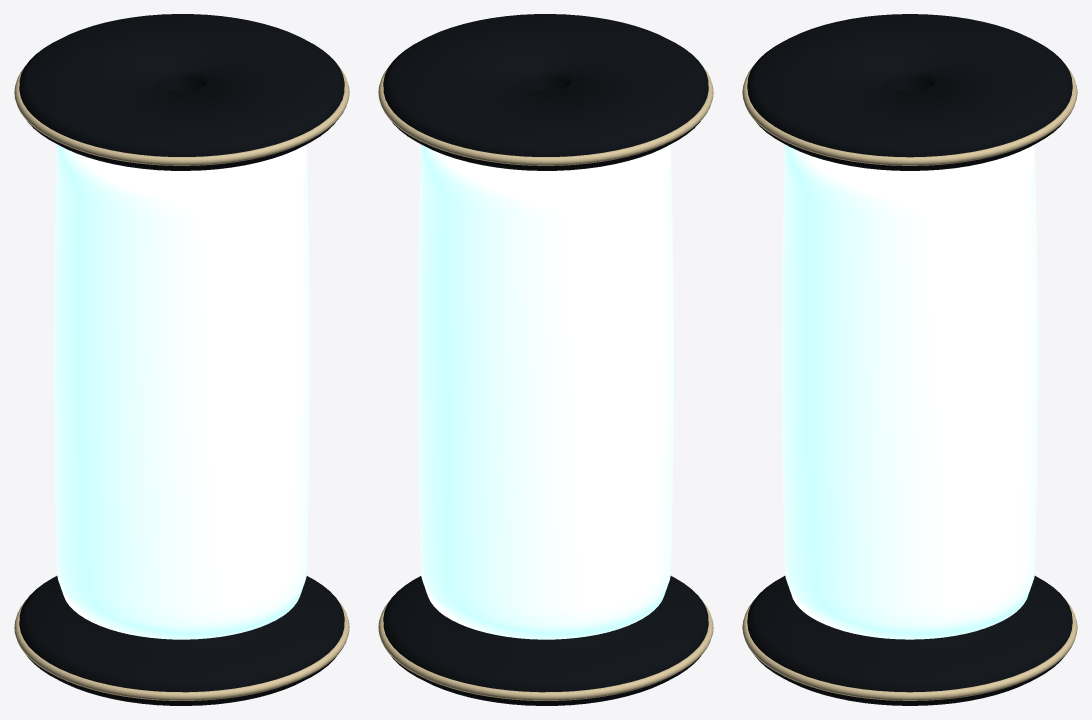
Rendered from spool.glb.
3 views of the same model, side by side, from view 1: azimuth 30°, elevation 25°; view 2: azimuth 150°, elevation 25°; view 3: azimuth 270°, elevation 25° (orthographic).
Parts seen in each view (by area): view 1: Spool_Thread, Spool_Frame, Spool_Rim.001, Spool_Rim; view 2: Spool_Thread, Spool_Frame, Spool_Rim.001, Spool_Rim; view 3: Spool_Thread, Spool_Frame, Spool_Rim, Spool_Rim.001.
Boxes of the visible parts, x1=… form: Spool_Thread: x1=54, y1=144, x2=309, y2=639; Spool_Frame: x1=19, y1=14, x2=344, y2=705; Spool_Rim.001: x1=14, y1=65, x2=349, y2=165; Spool_Rim: x1=14, y1=600, x2=349, y2=700; Spool_Thread: x1=418, y1=144, x2=673, y2=639; Spool_Frame: x1=383, y1=14, x2=708, y2=705; Spool_Rim.001: x1=378, y1=65, x2=713, y2=165; Spool_Rim: x1=378, y1=600, x2=713, y2=700; Spool_Thread: x1=782, y1=144, x2=1037, y2=639; Spool_Frame: x1=747, y1=14, x2=1072, y2=705; Spool_Rim: x1=742, y1=600, x2=1077, y2=700; Spool_Rim.001: x1=742, y1=65, x2=1077, y2=165.
Bounding box in the file's own units: 0.8662 × 1.6 × 0.8662.
